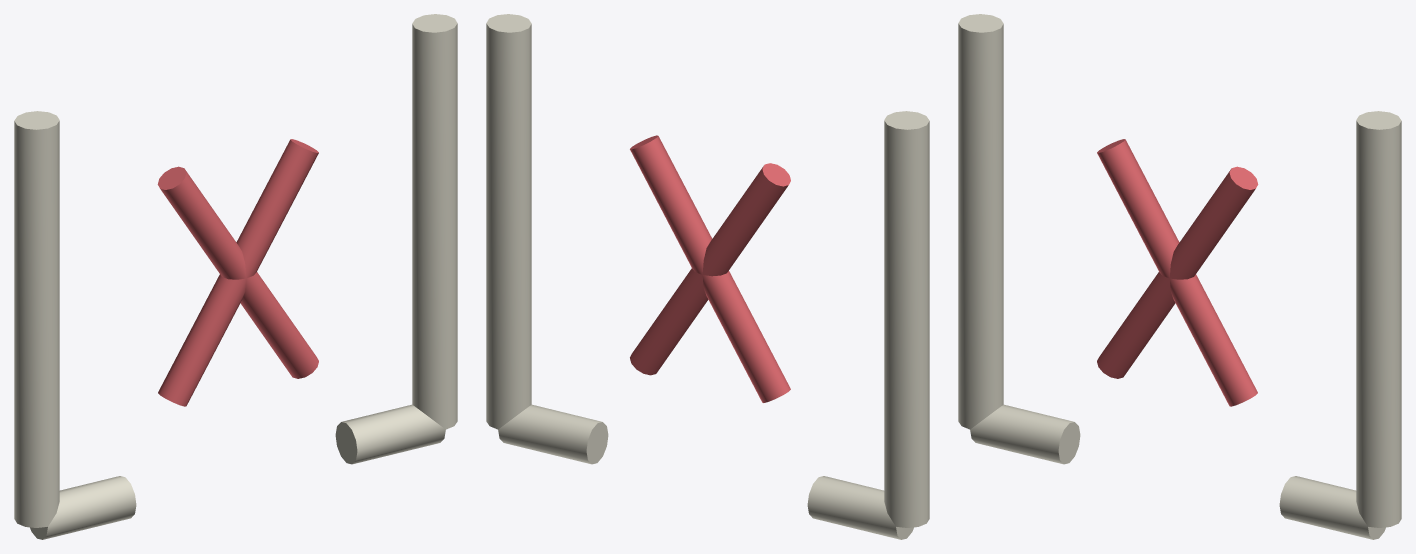
Rendered from floor.glb.
3 renders of one model, left to right at view 1: azimuth 30°, elevation 25°; view 2: azimuth 150°, elevation 25°; view 3: azimuth 330°, elevation 25°, orthographic.
Size of the model in its own units: 23 by 21 by 2.
